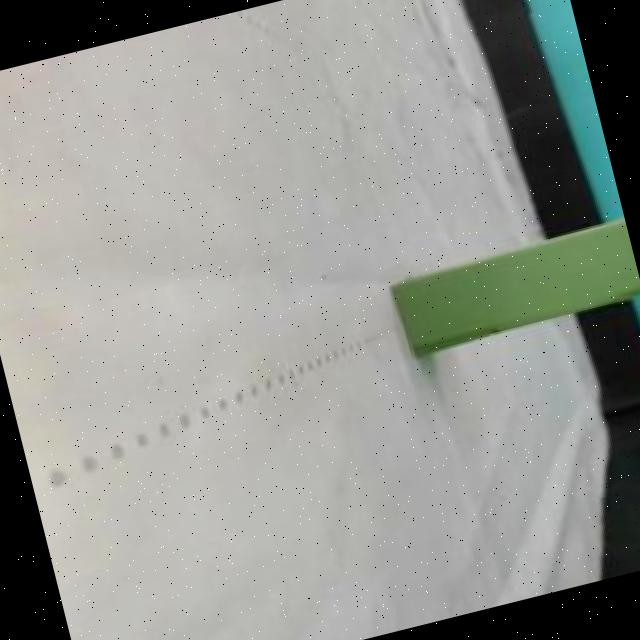greenbox: (387, 215, 640, 358)
